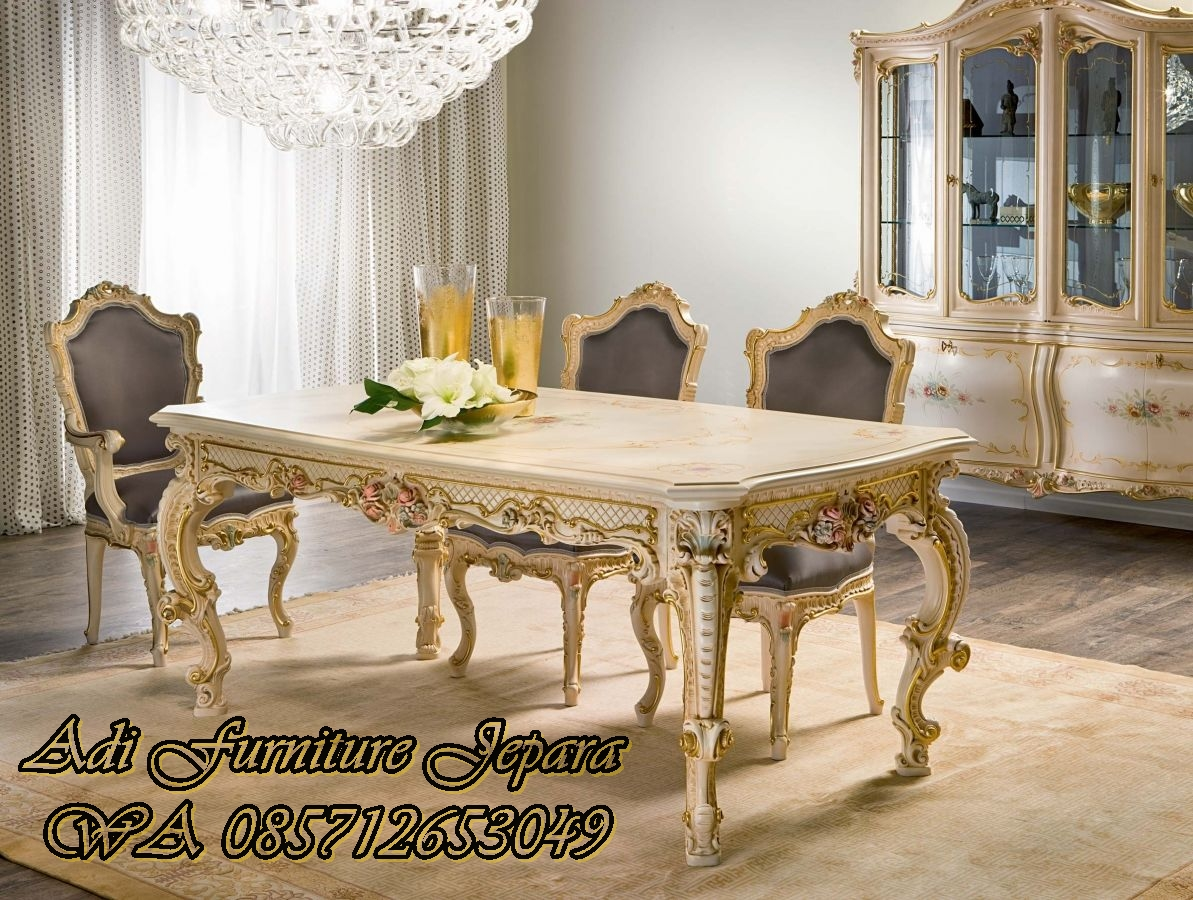Carving Table: (106, 370, 995, 803)
